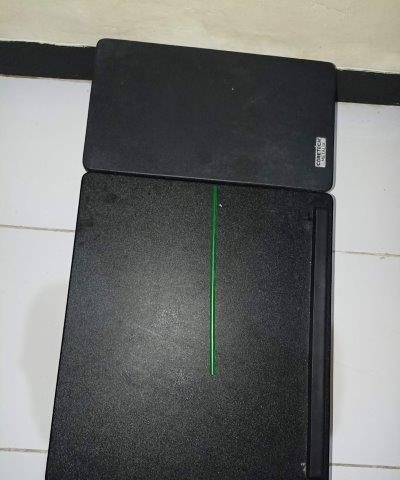sedotan: (209, 186, 217, 374)
